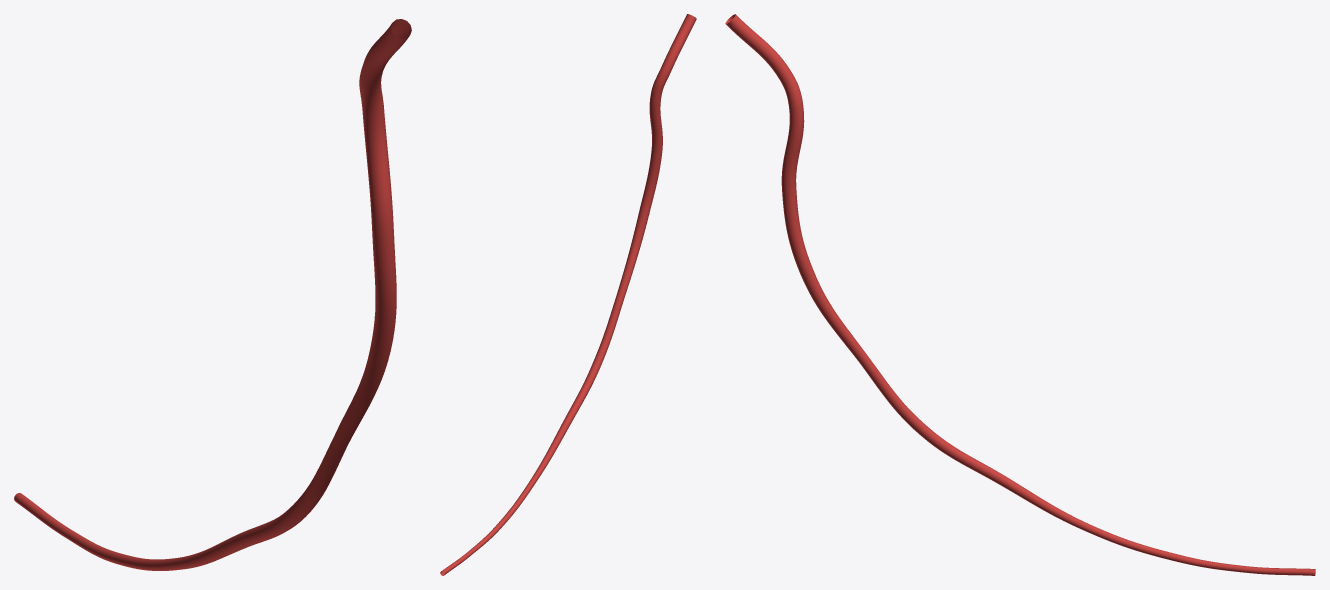
3 renders of one model, left to right at view 1: azimuth 30°, elevation 25°; view 2: azimuth 150°, elevation 25°; view 3: azimuth 270°, elevation 25°, orthographic. The views are drawn at different scales.
Parts seen in each view (by area): view 1: 右侧阴茎深动脉; view 2: 右侧阴茎深动脉; view 3: 右侧阴茎深动脉.
Boxes of the visible parts, bbox=[...] form: 右侧阴茎深动脉: bbox=[14, 19, 411, 570]; 右侧阴茎深动脉: bbox=[440, 14, 696, 575]; 右侧阴茎深动脉: bbox=[725, 14, 1315, 575].
Bounding box in the file's own units: 0.0074 × 0.0802 × 0.0792.
